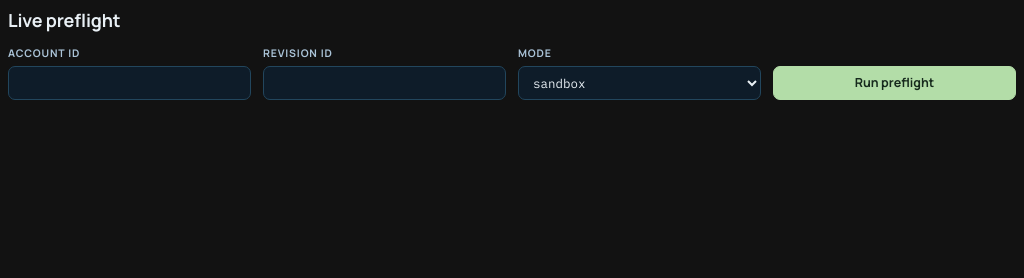
Test: LivePreflight Signal layout — verdict panel › keeps the verbatim ok verdict on the grouped surface panel with the sage tone
Type "acct-1" into the field with test id "live-preflight-account" at (130,83), box [8, 66, 251, 100]
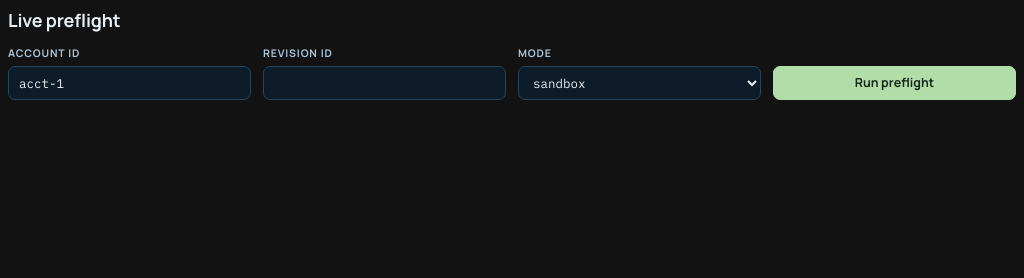
Type "rev-1" into the field with test id "live-preflight-revision" at (384,83), box [263, 66, 506, 100]
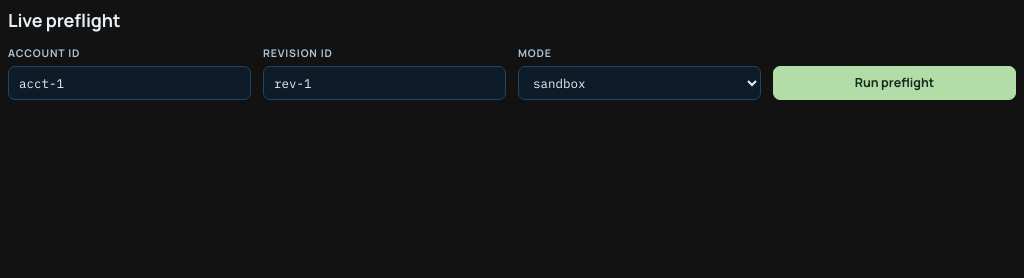
Click the button with test id "live-preflight-submit" at (894,83), box [773, 66, 1016, 100]
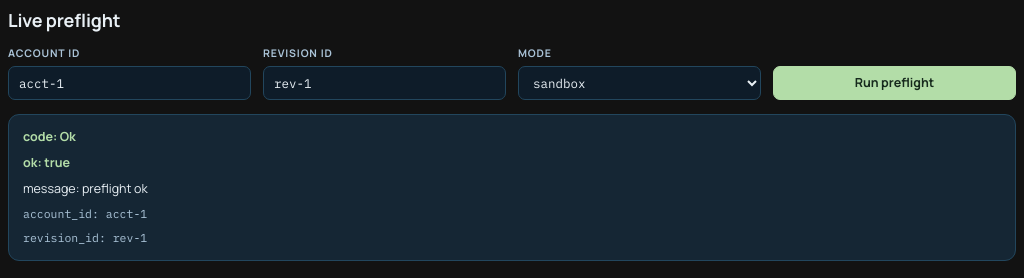
expect the element with test id "live-preflight-result" shows "code: Ok": met, box [8, 114, 1016, 261]
expect the element with test id "live-preflight-result" shows "ok: true": met, box [8, 114, 1016, 261]
expect the element with test id "live-preflight-result" shows "preflight ok": met, box [82, 180, 148, 197]
